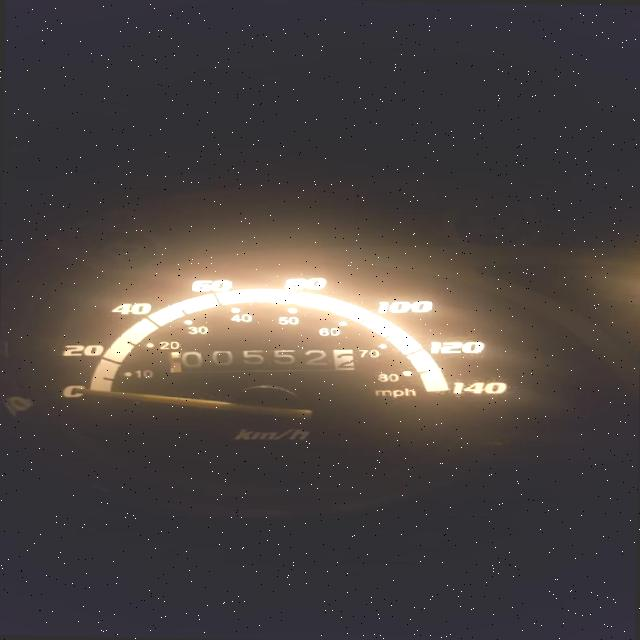odometer: (178, 344, 360, 374)
